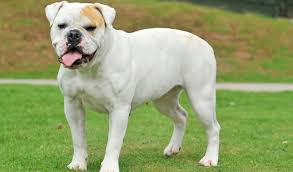Bulldog: (37, 1, 232, 172)
